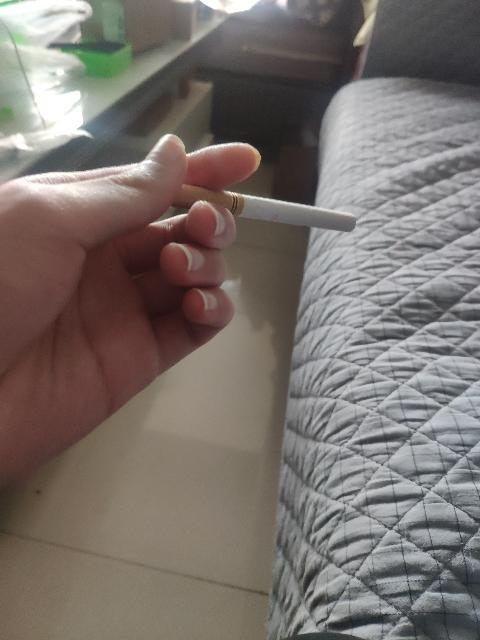Smoking: (170, 183, 359, 233)
